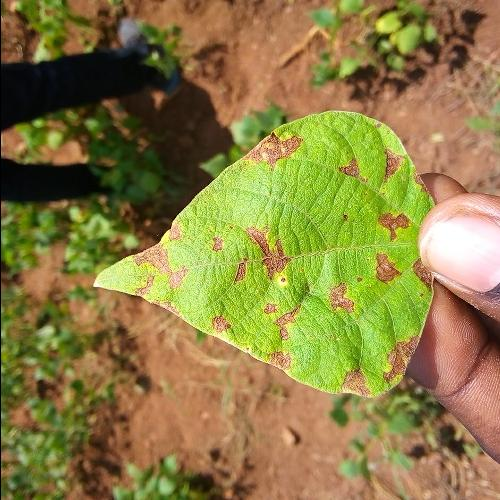embun tepung: (317, 244, 434, 408), (119, 207, 198, 347), (318, 133, 422, 239), (209, 212, 295, 310), (222, 114, 287, 188)
